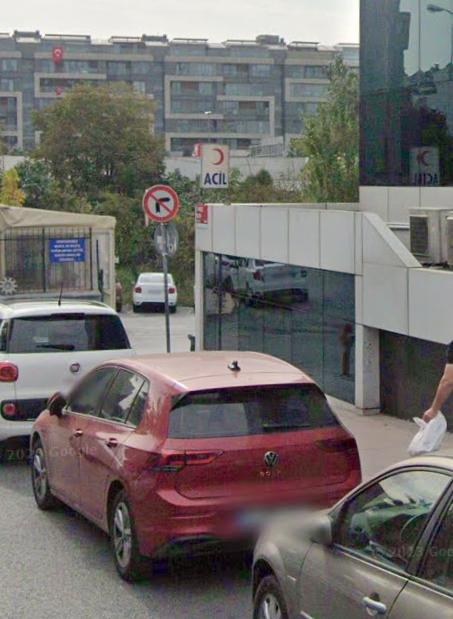rightturnsareforbidden: (143, 185, 178, 221)
